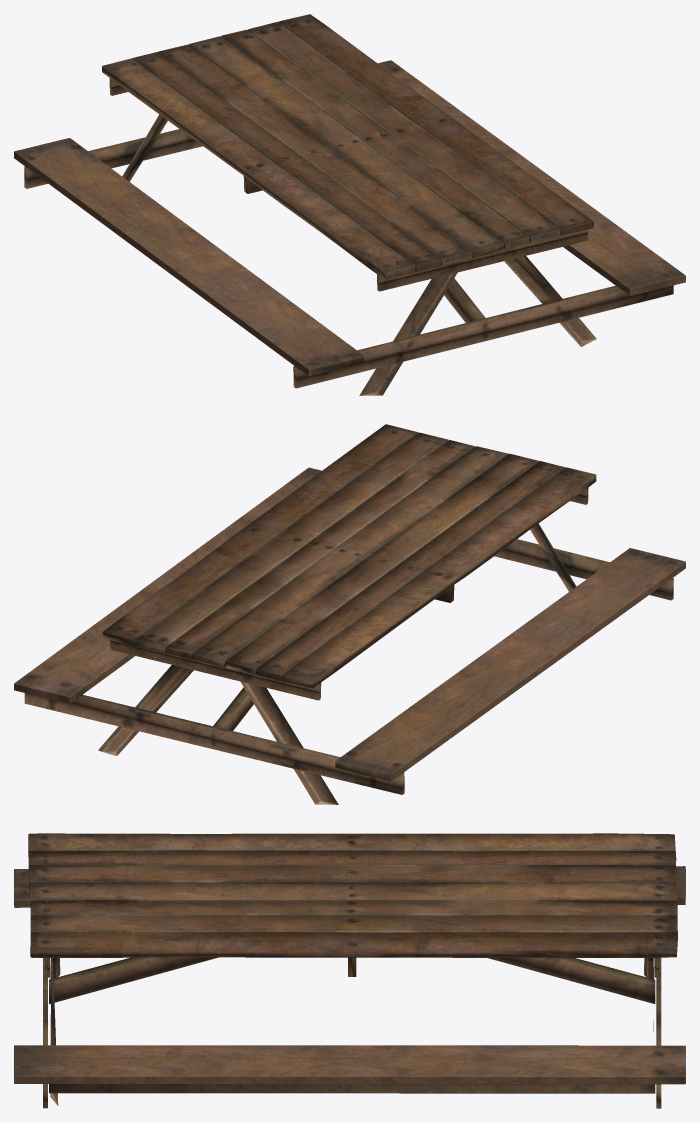
File: wooden_picnic_table.glb
The picture shows the model from 3 angles, top to bottom: view 1: azimuth 30°, elevation 25°; view 2: azimuth 150°, elevation 25°; view 3: azimuth 270°, elevation 25°; orthographic projection. The views are drawn at different scales.
Parts seen in each view (by area): view 1: wooden_picnic_table; view 2: wooden_picnic_table; view 3: wooden_picnic_table.
Part boxes in pixels (bbox=[...]): wooden_picnic_table: bbox=[14, 14, 685, 395]; wooden_picnic_table: bbox=[14, 424, 685, 804]; wooden_picnic_table: bbox=[14, 833, 685, 1108].
Bounding box in the file's own units: 2.24 × 0.7454 × 3.02.
2 materials, 2 textured.
